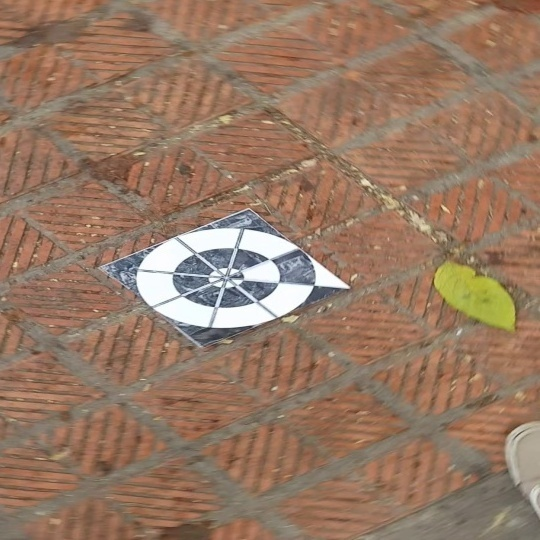landing-zone: (94, 195, 355, 357)
